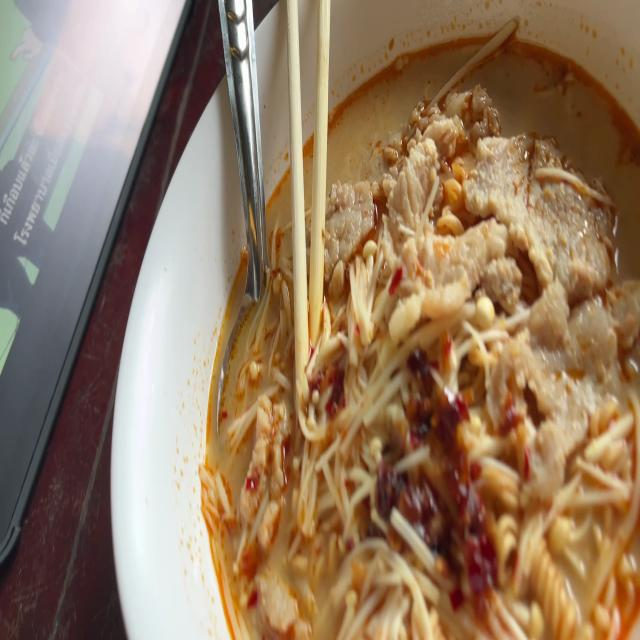noodle: (196, 14, 640, 640)
